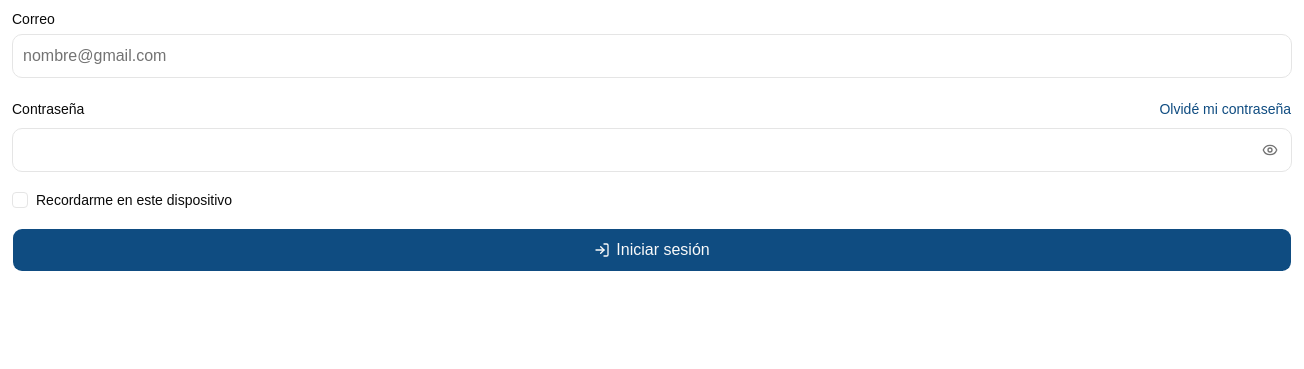
Test: LoginForm › si el correo o la contraseña no son correctos lo indica y conserva lo escrito
Type "ana@gmail.com" into the field labelled "Correo" at (652, 56), box [12,34,1292,78]
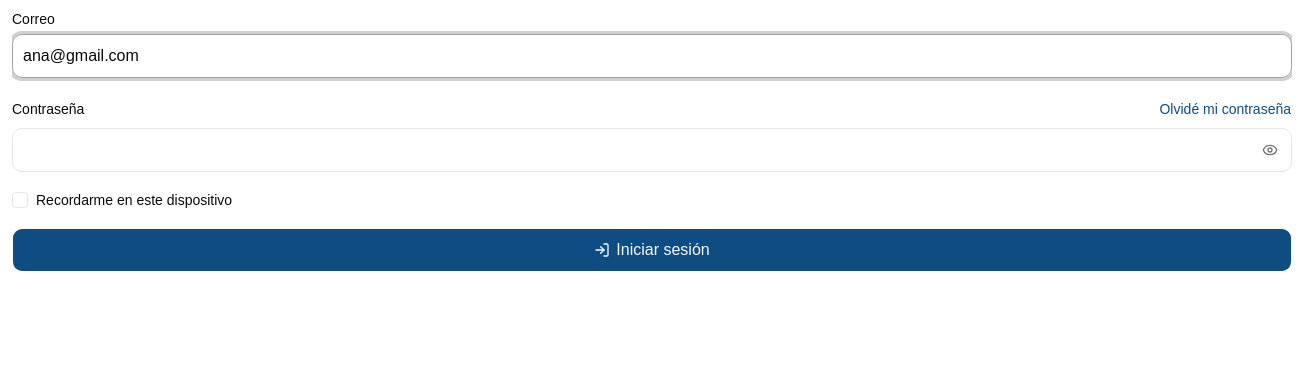
Type "secreta123" into the password field labelled "Contraseña" at (652, 150), box [12,128,1292,172]
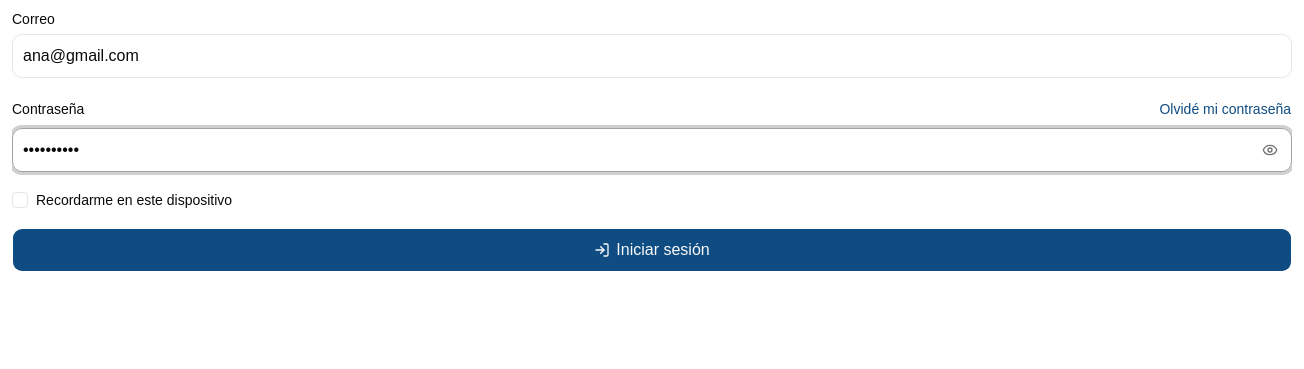
Click the button "Iniciar sesión" at (652, 250), box [12,228,1292,272]
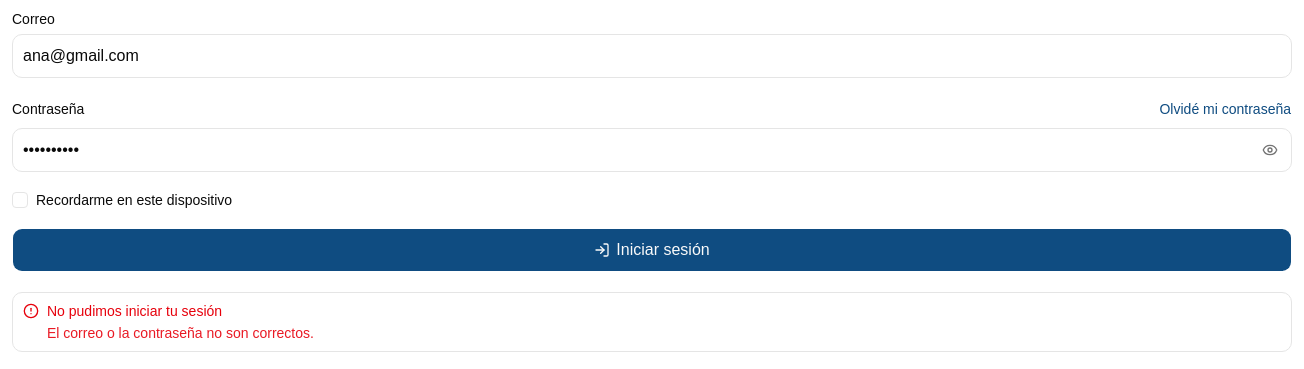
Expected: the message shows "El correo o la contraseña no son correctos.", [47,325,314,341]
